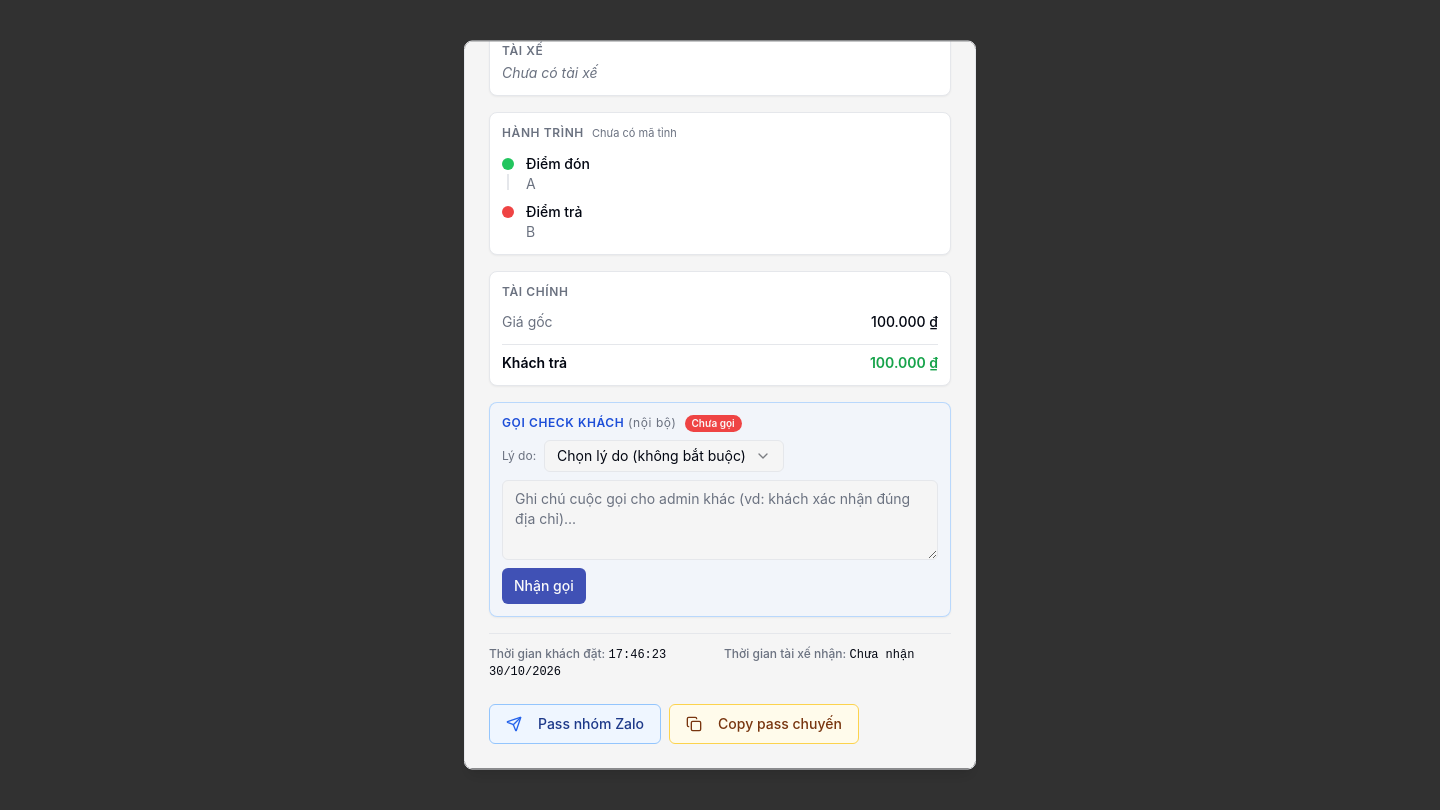
Scenario: BookingDetail — nhận gọi check khách › gọi-TRƯỚC: nhận xong thì hiện 2 nút kết quả, không còn "Nhận gọi"
This screenshot has width=1440, height=810.
(page scrolled)
Click the button "Nhận gọi". click: (544, 586)
box: [502,568,586,604]
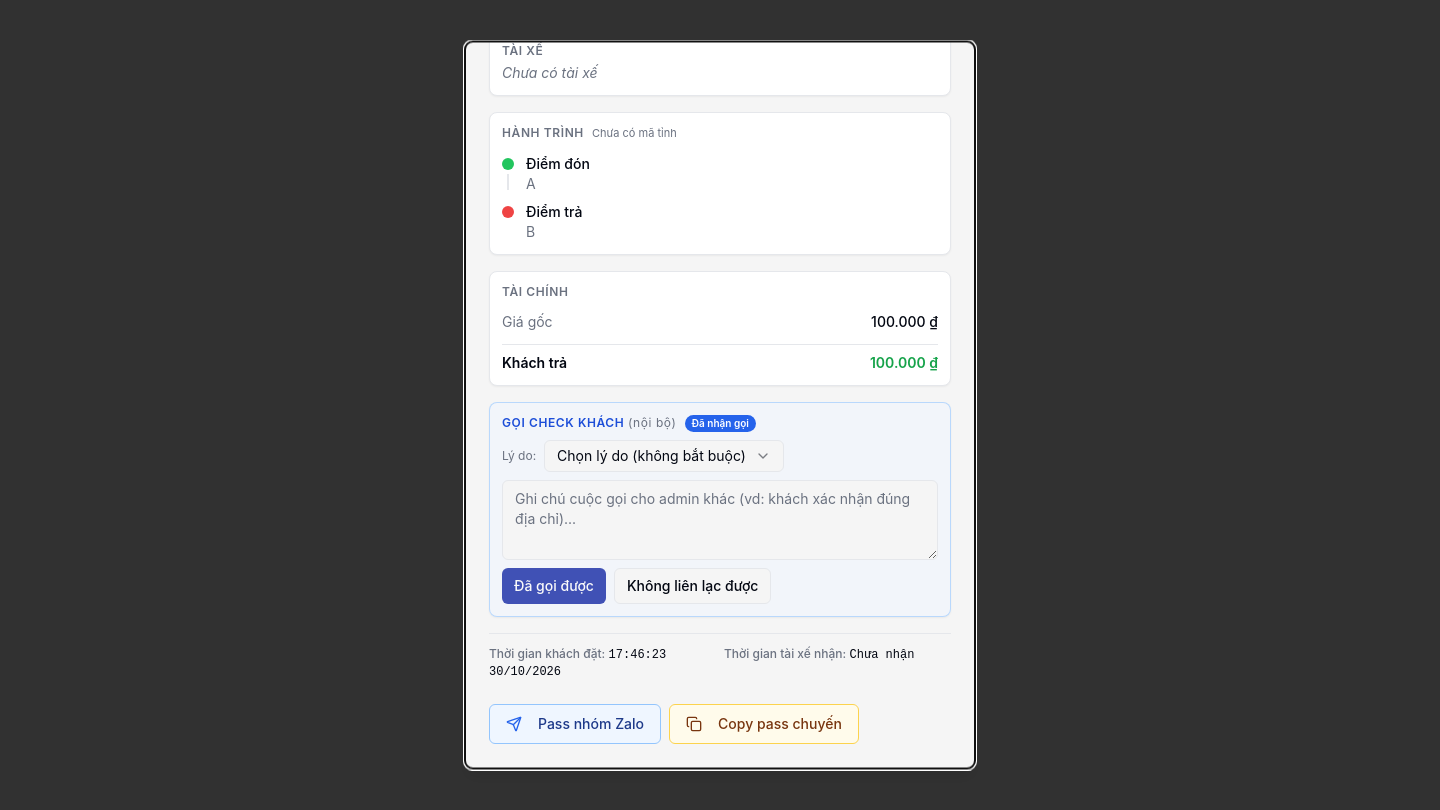
Now the button "Đã gọi được" is shown, box [502,568,606,604]
